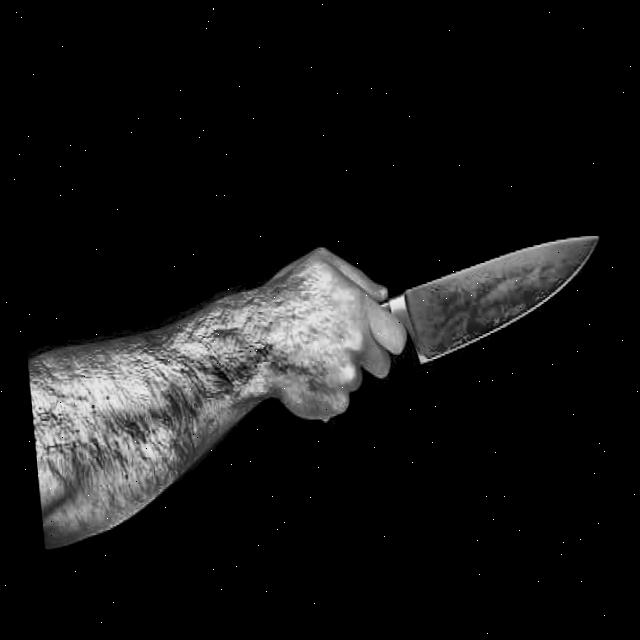pisau: (260, 230, 620, 428)
